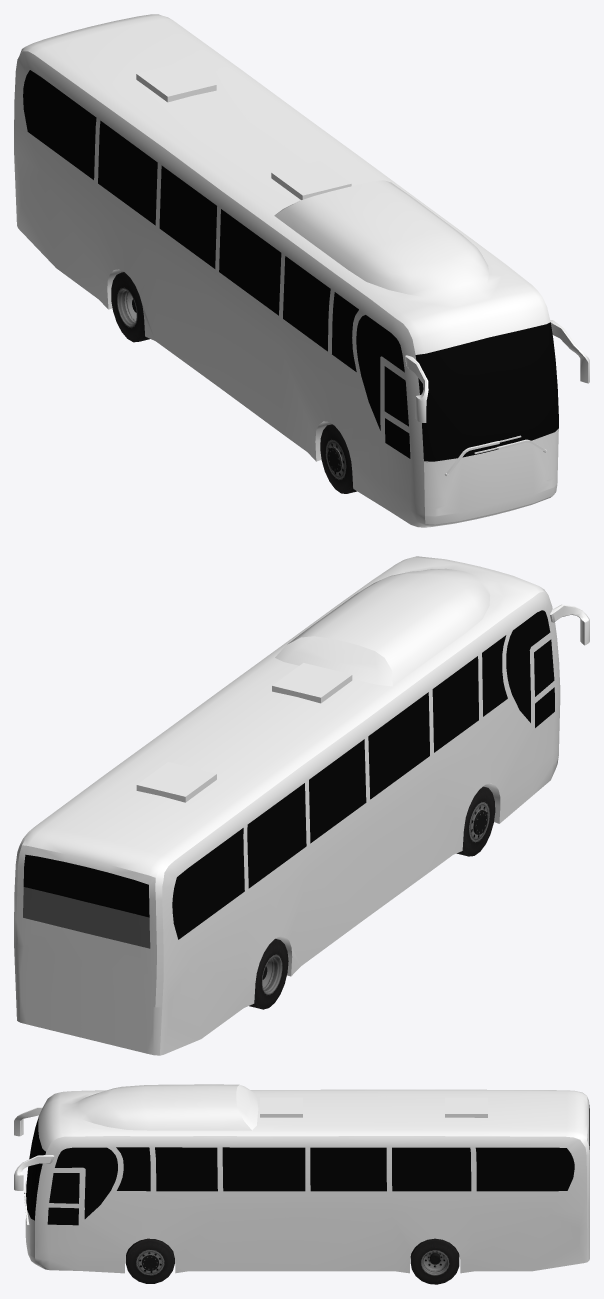
File: SM_Bus.glb
3 views of the same model, one above another, from view 1: azimuth 30°, elevation 25°; view 2: azimuth 150°, elevation 25°; view 3: azimuth 270°, elevation 25° (orthographic). The views are drawn at different scales.
Parts seen in each view (by area): view 1: SM_Bus01; view 2: SM_Bus01; view 3: SM_Bus01.
Part boxes in pixels (left/top/right/bottom): SM_Bus01: left=14, top=14, right=589, bottom=527; SM_Bus01: left=14, top=556, right=589, bottom=1055; SM_Bus01: left=14, top=1084, right=589, bottom=1284.
Size of the model in its own units: 2.97 by 4.02 by 12.68.
Materials: 6 (1 with a texture image).
